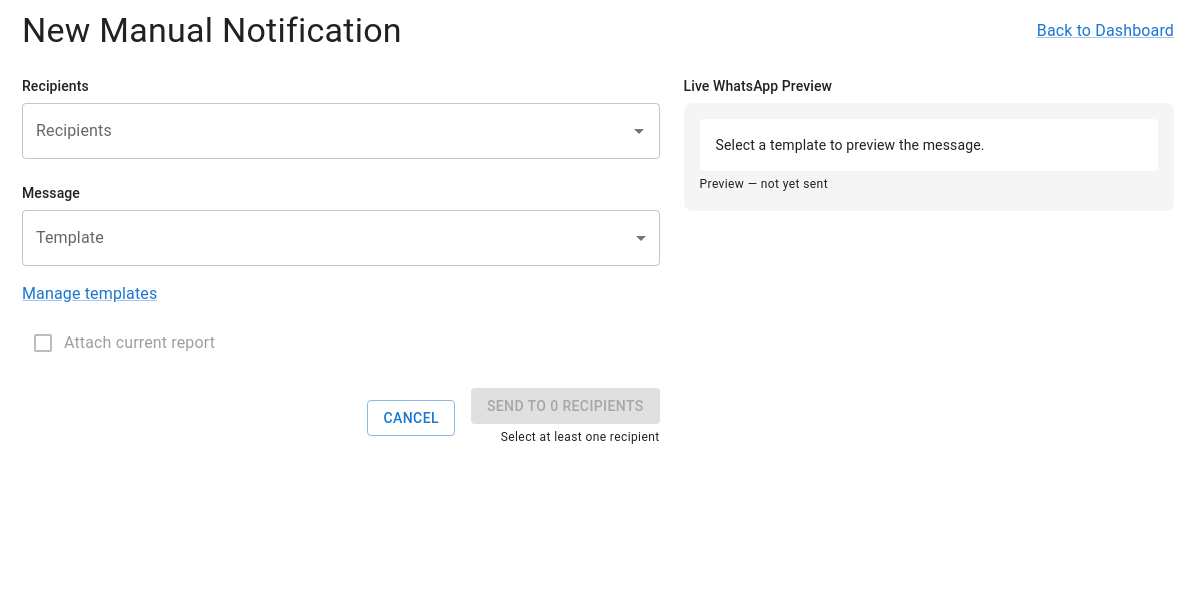
Scenario: NotificationComposePage › shows the server error message and re-enables Send when compose fails
Click the dropdown labelled "Recipients" at (326, 131), box 31,112 -> 621,150
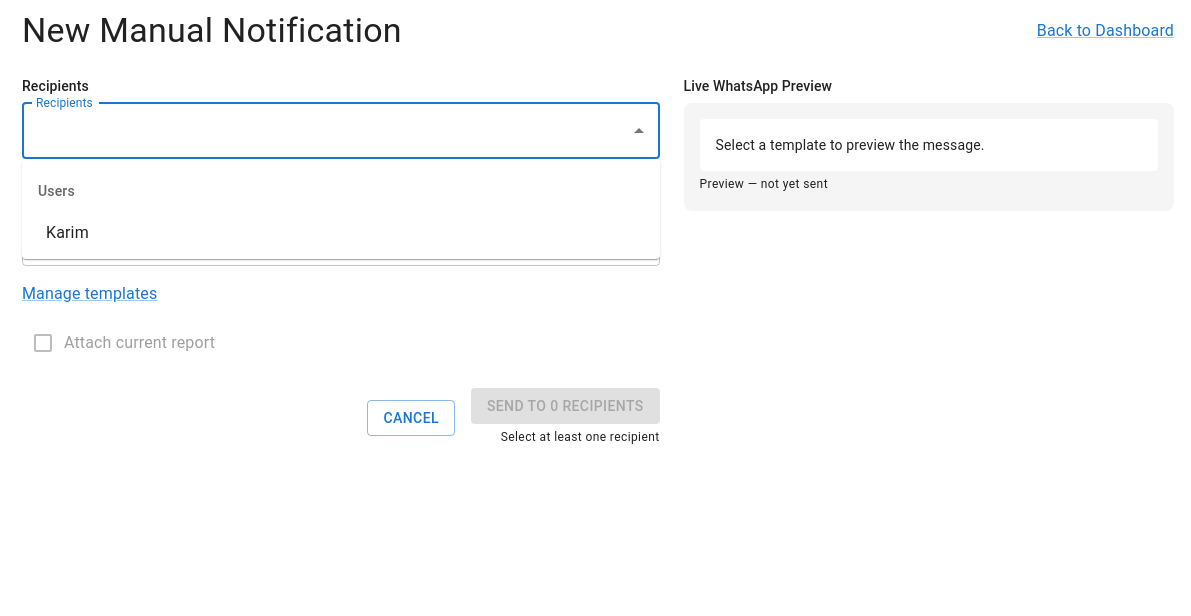
Click the option "Karim" at (67, 232), box 46,223 -> 89,242
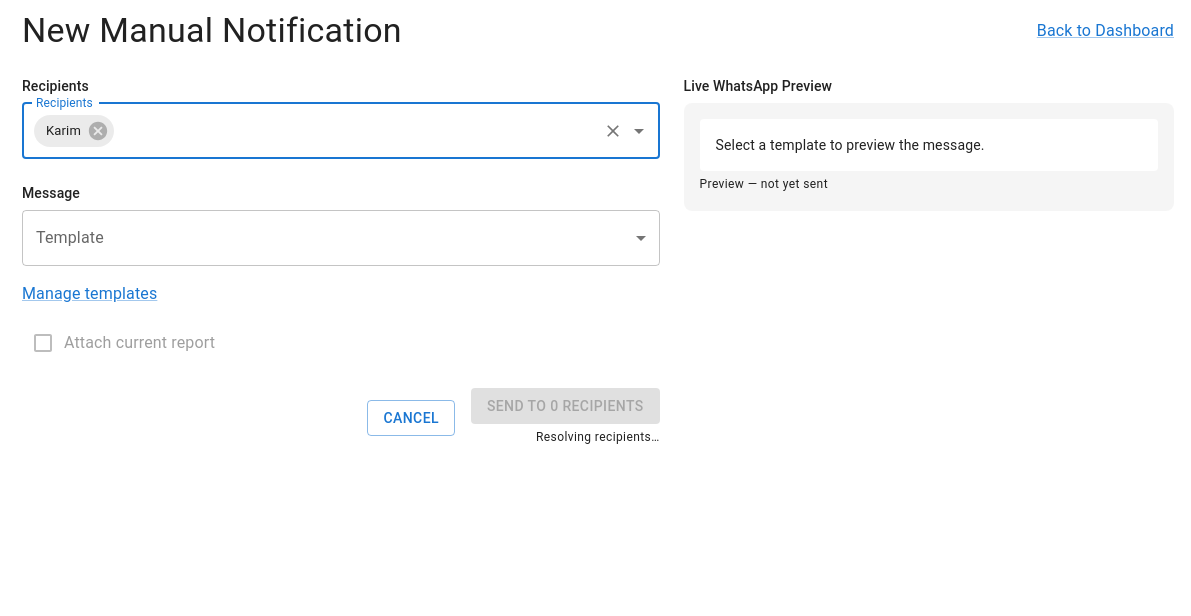
Click the dropdown named "Template" at (341, 238), box 22,210 -> 660,266
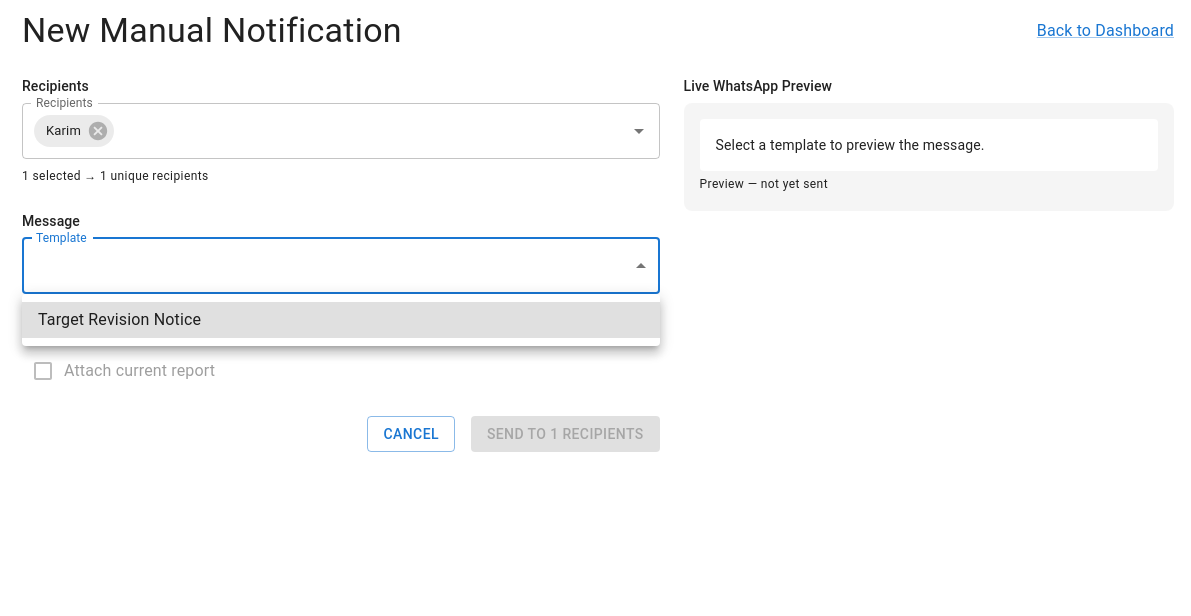
Click the option "Target Revision Notice" at (120, 320), box 22,302 -> 660,338
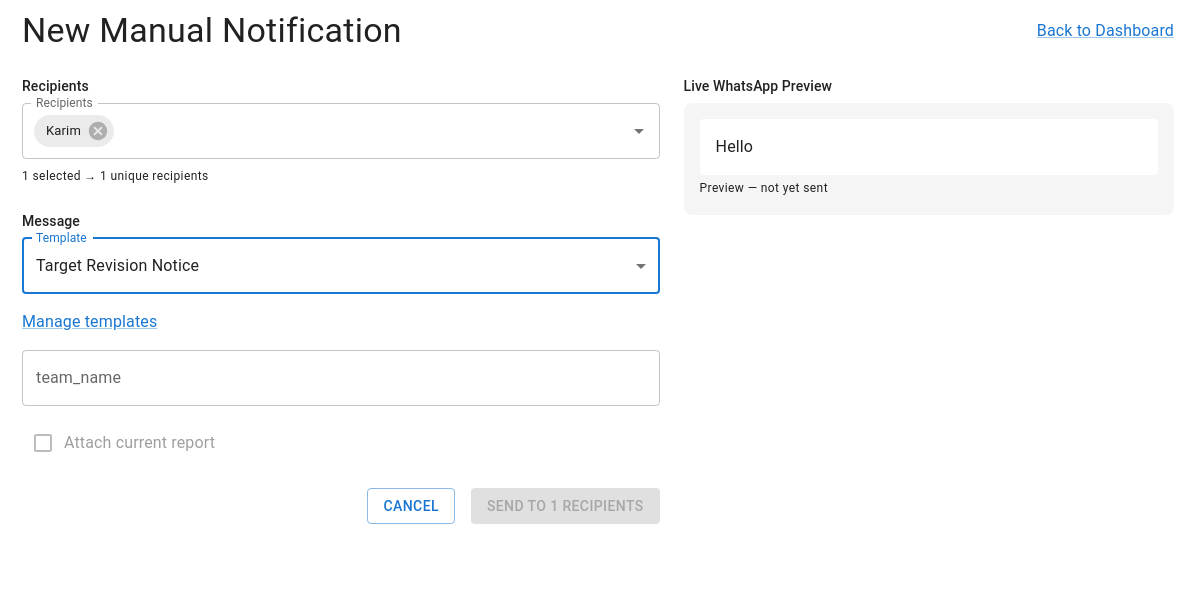
Type "Team B" into the field labelled "team_name" at (341, 378), box 22,350 -> 660,406
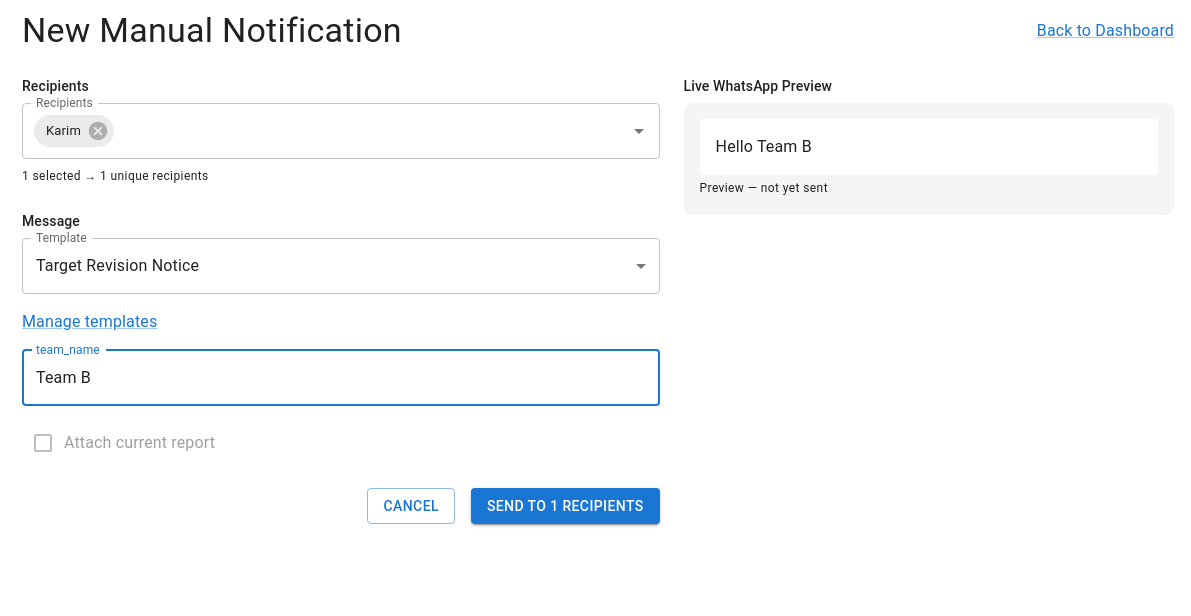
Now the button "Send to 1 recipients" is enabled
Click the button "Send to 1 recipients" at (565, 506), box 471,488 -> 660,524
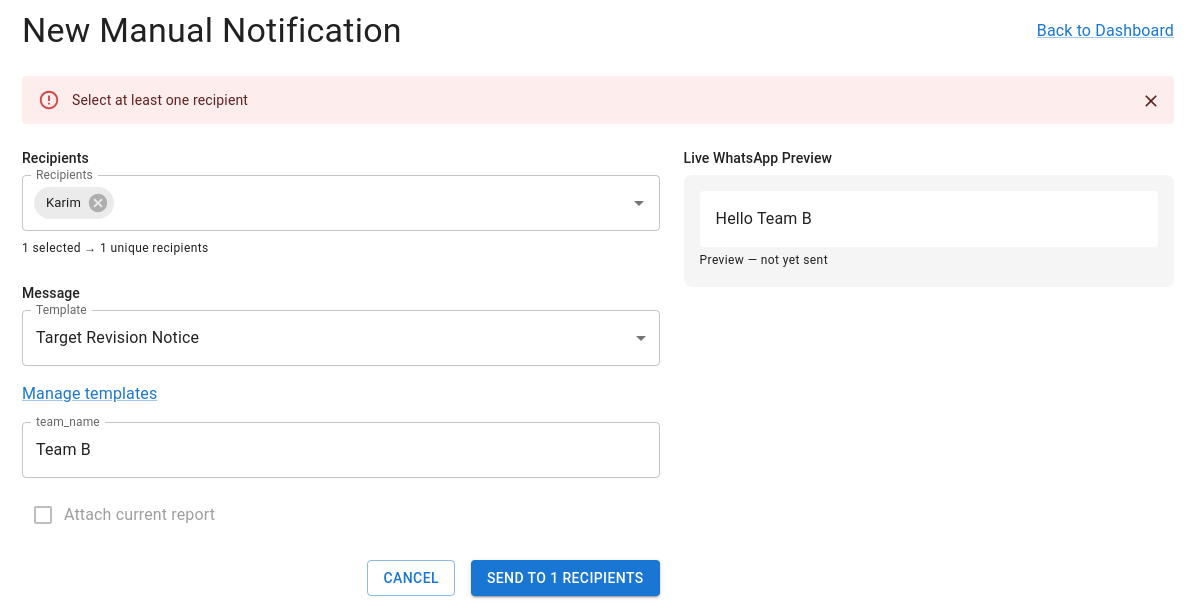
Now the button "Send to 1 recipients" is enabled, box 471,560 -> 660,596
Now the text "Select at least one recipient" is shown, box 72,92 -> 248,108
